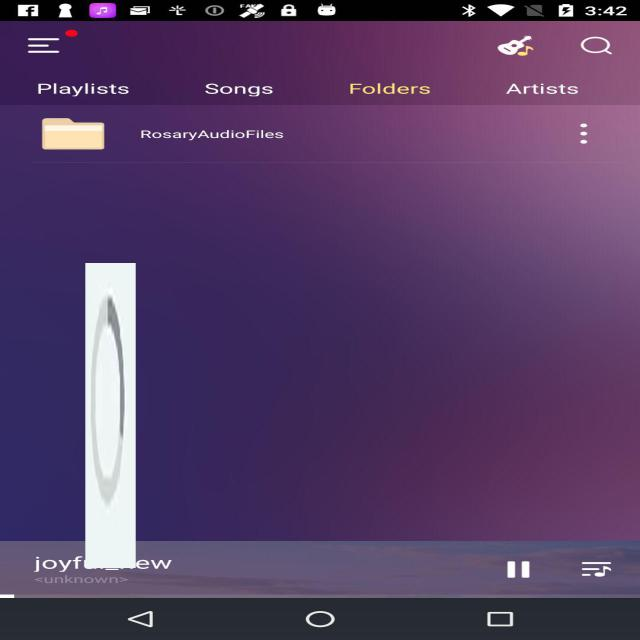misdirection: (85, 263, 136, 568)
